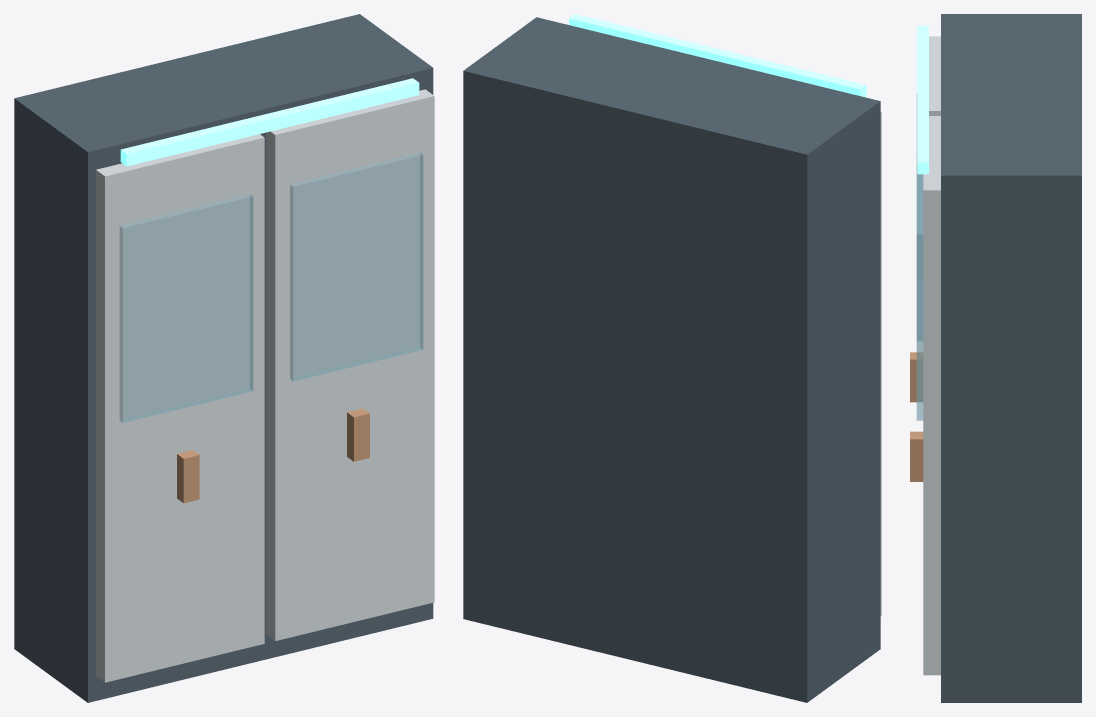
The model's file is supply_cabinet.glb.
3 views of the same model, side by side, from view 1: azimuth 30°, elevation 25°; view 2: azimuth 150°, elevation 25°; view 3: azimuth 270°, elevation 25° (orthographic). The views are drawn at different scales.
Visible parts, largest first — view 1: ivory_1, ivory_4, dark_0, glass_2, glass_5, blue_7, copper_3, copper_6; view 2: dark_0, blue_7, ivory_1; view 3: dark_0, ivory_4, glass_5, blue_7, glass_2, ivory_1, copper_6, copper_3.
Boxes of the visible parts, x1,y1,x2,y2 form: ivory_1: (96, 134, 264, 682); ivory_4: (266, 89, 434, 641); dark_0: (14, 14, 433, 702); glass_2: (120, 194, 253, 422); glass_5: (290, 153, 423, 381); blue_7: (120, 78, 419, 166); copper_3: (177, 450, 199, 503); copper_6: (347, 408, 369, 461); dark_0: (463, 17, 880, 702); blue_7: (569, 14, 866, 97); ivory_1: (880, 111, 881, 615); dark_0: (941, 14, 1081, 702); ivory_4: (923, 116, 940, 675); glass_5: (916, 174, 923, 420); blue_7: (917, 25, 928, 174); glass_2: (916, 94, 922, 340); ivory_1: (929, 36, 940, 115); copper_6: (910, 431, 923, 481); copper_3: (910, 352, 922, 402).
Bounding box in the file's own units: 1.3 × 1.98 × 0.585.
